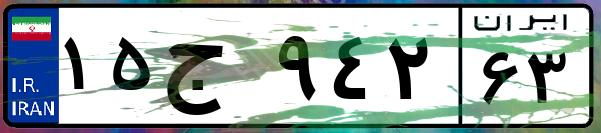1: (57, 26, 110, 100)
2: (385, 28, 445, 110)
3: (525, 38, 570, 115)
4: (330, 28, 385, 110)
5: (110, 28, 158, 98)
6: (475, 38, 525, 113)
9: (270, 28, 330, 110)
ج: (158, 20, 270, 120)
